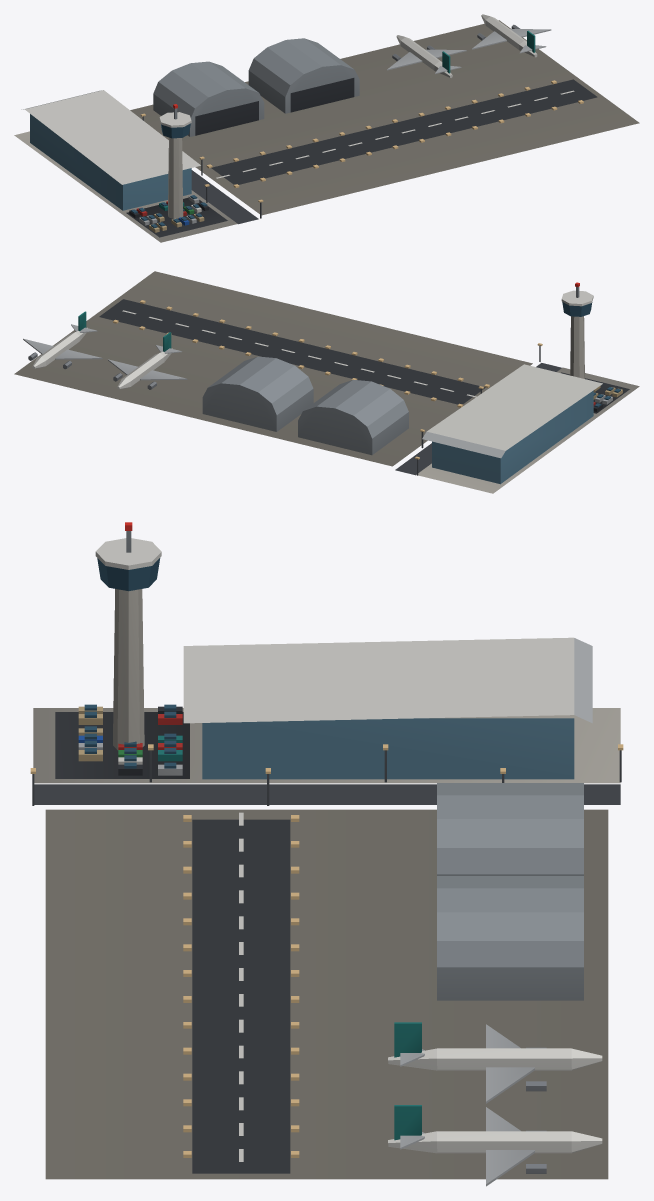
File: district_airport_flats.fbx
3 views of the same model, one above another, from view 1: azimuth 30°, elevation 25°; view 2: azimuth 150°, elevation 25°; view 3: azimuth 270°, elevation 25° (orthographic). The views are drawn at different scales.
Parts seen in each view (by area): view 1: district_airport_flats; view 2: district_airport_flats; view 3: district_airport_flats.
Boxes of the visible parts, box(x1,y1,x2,y2) form: district_airport_flats: box(14, 14, 639, 242); district_airport_flats: box(14, 271, 639, 493); district_airport_flats: box(30, 522, 623, 1186).
Bounding box in the file's own units: 191 × 40.15 × 96.9.
